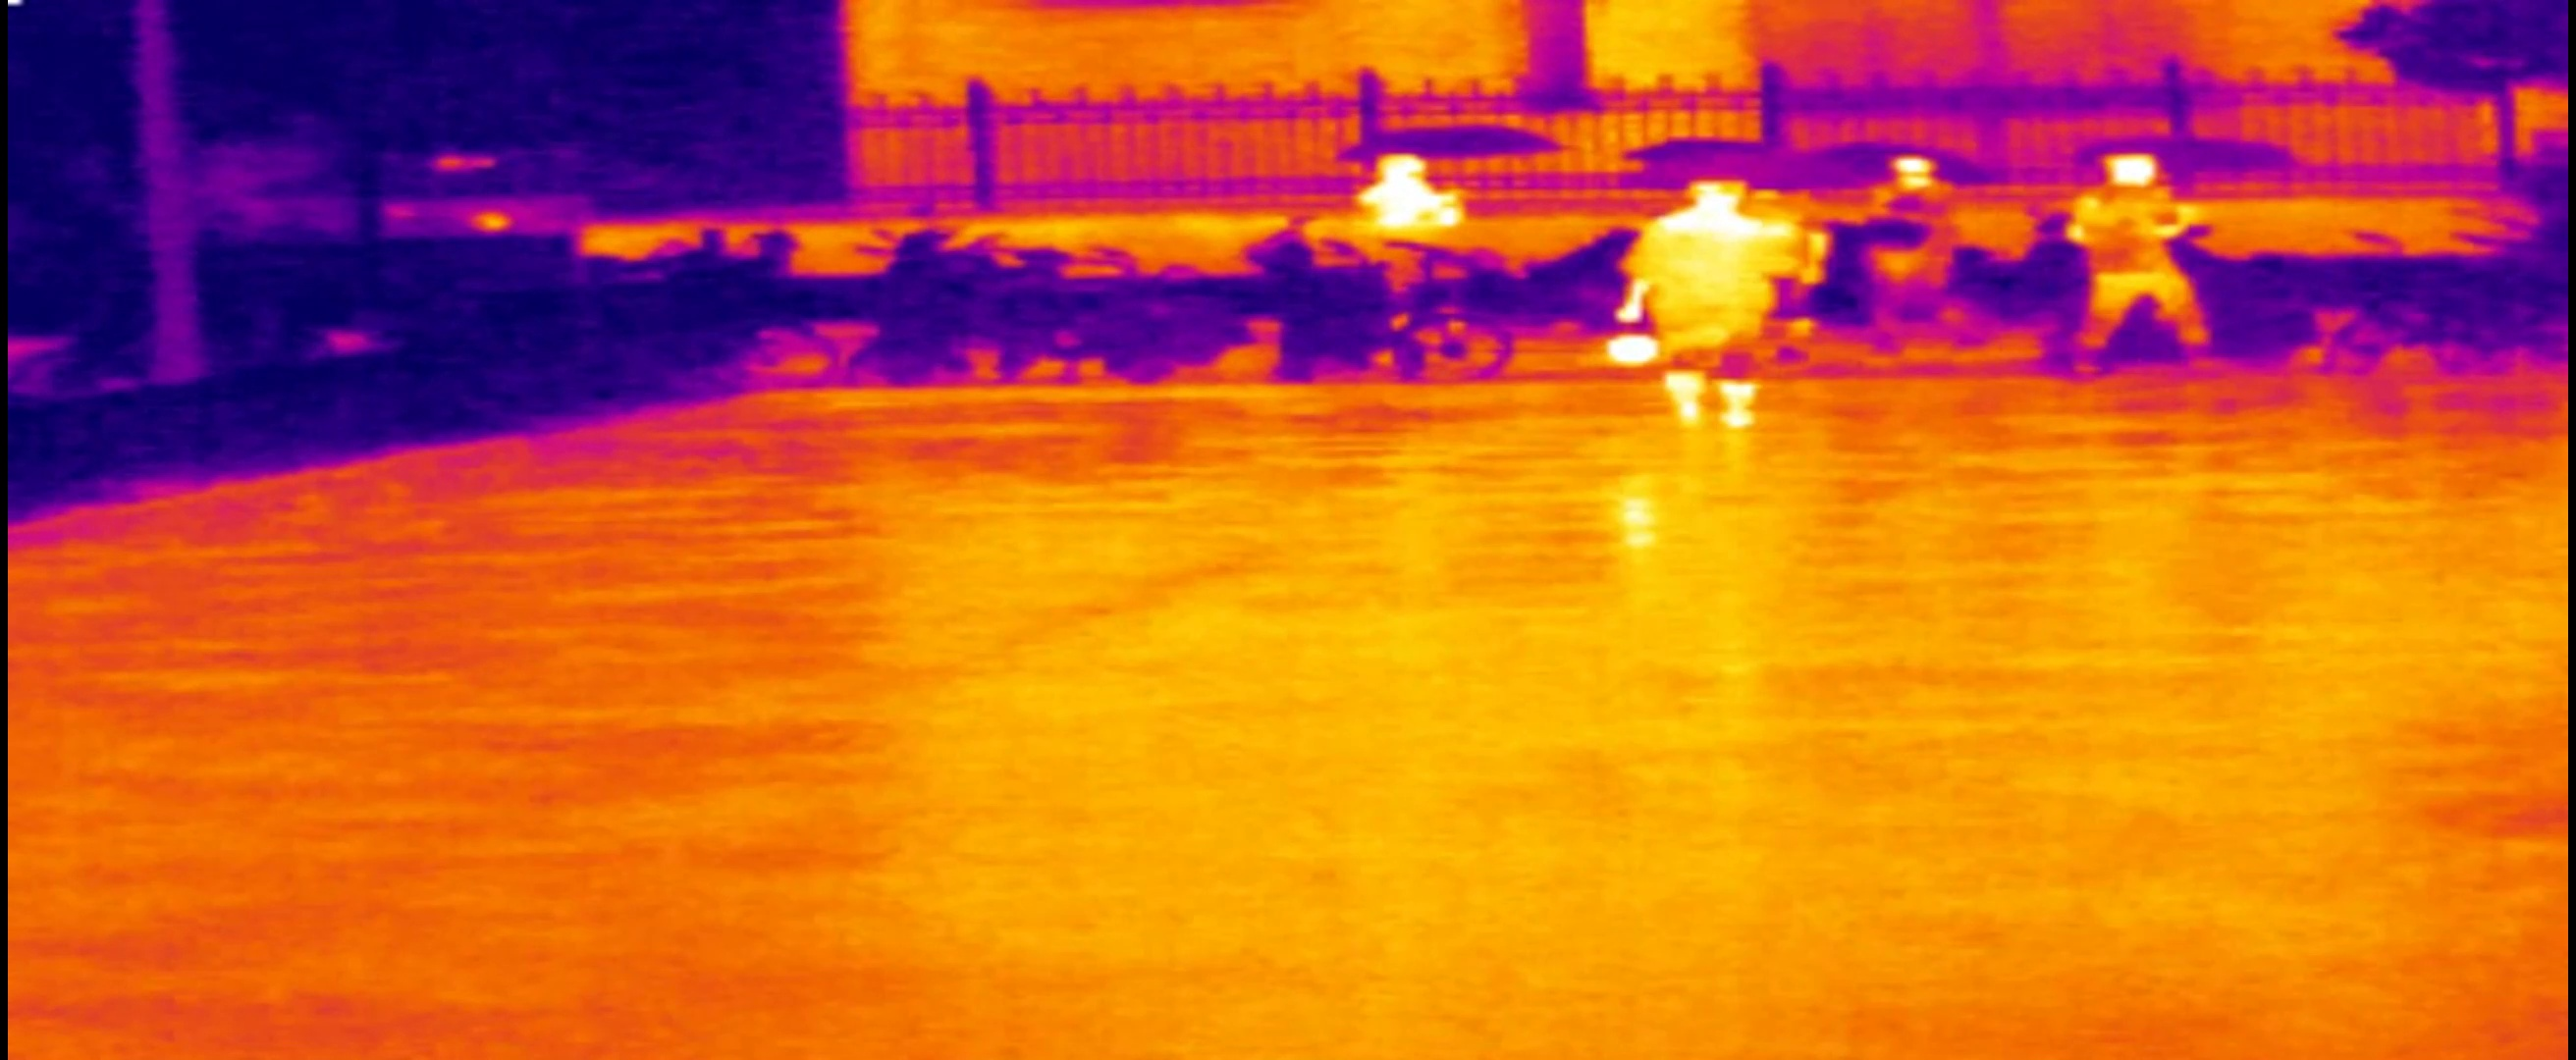person: (1626, 180, 1789, 445), (2068, 151, 2213, 380), (1870, 153, 1979, 357), (1349, 153, 1474, 246), (1762, 194, 1831, 309)
